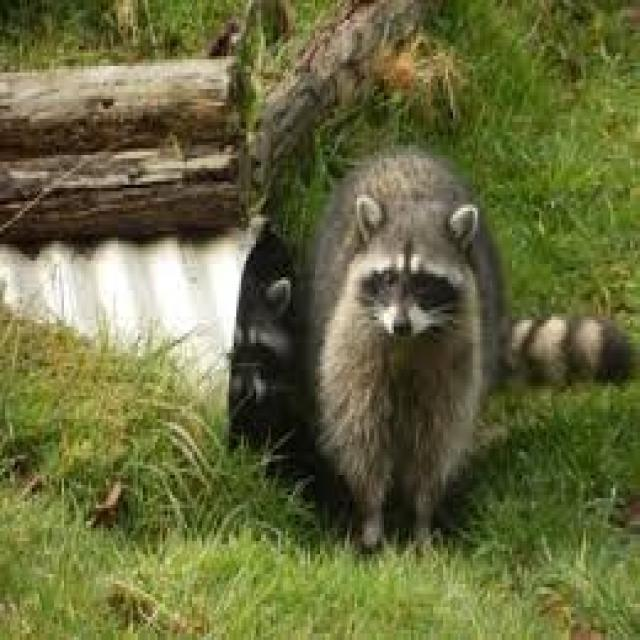Raccoon: (310, 139, 628, 521)
